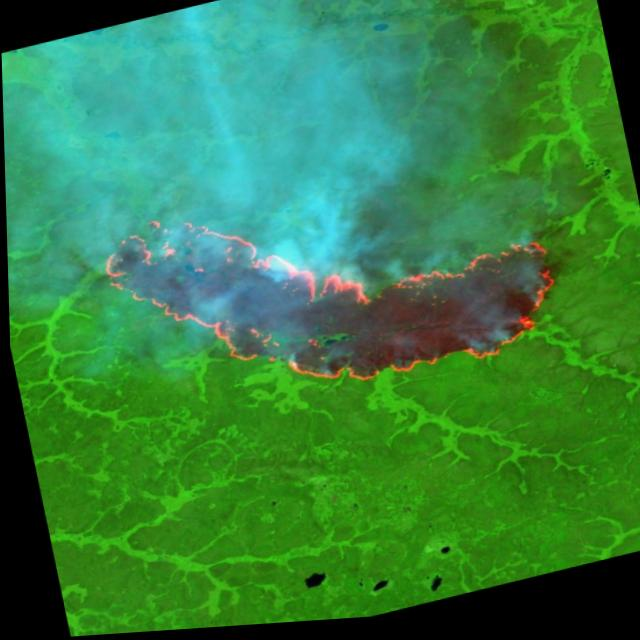fire: (82, 130, 581, 452)
